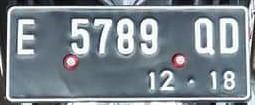clone-license-plate: (5, 5, 254, 101)
